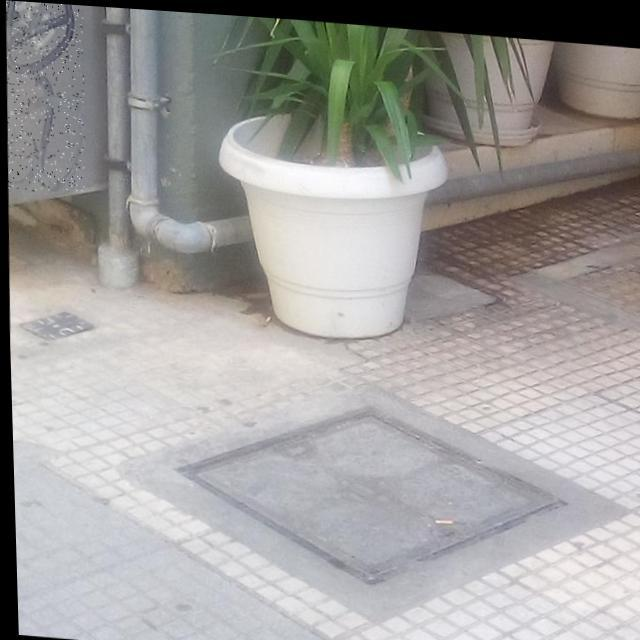-: (2, 0, 86, 193)
